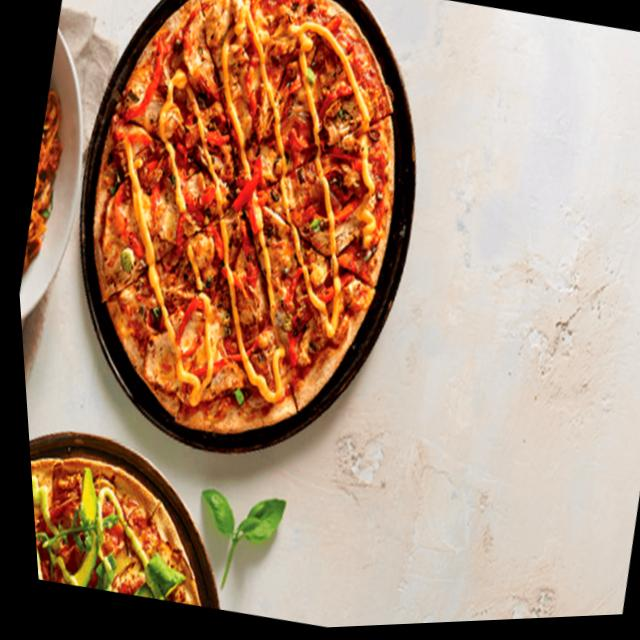pizza: (30, 0, 446, 472), (23, 434, 218, 613)
